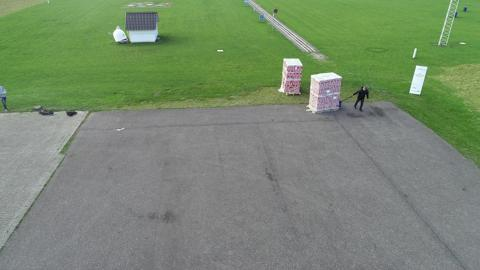RockwoolPallet: (283, 58, 301, 92)
